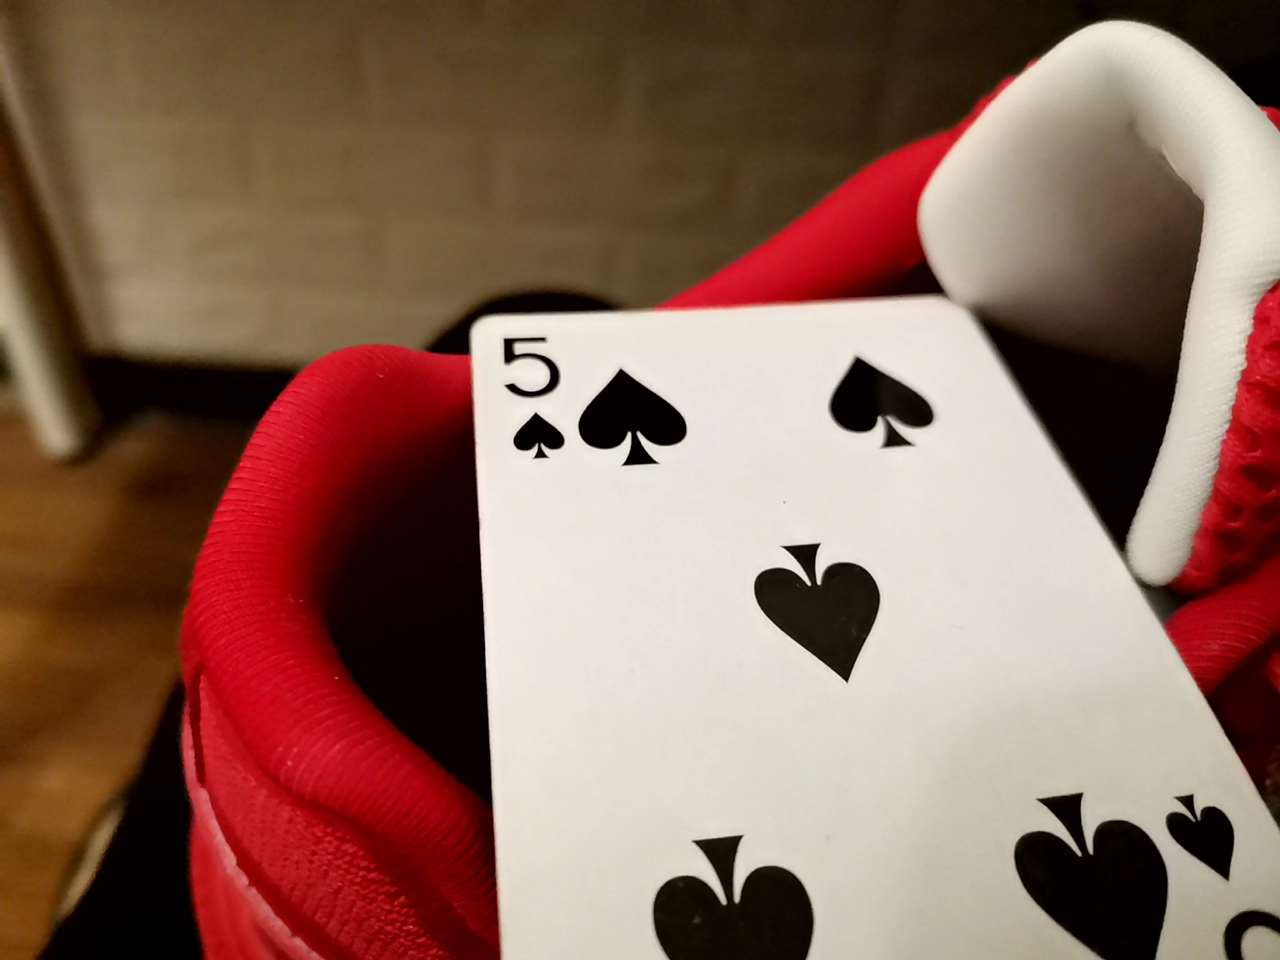ht 5: (428, 278, 1265, 956)
